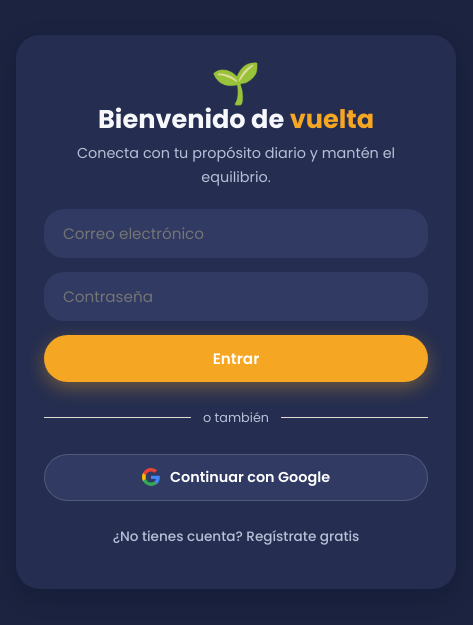
it: LoginForm › muestra el error cuando signIn rechaza la promesa
Type "persona@example.com" into the field with placeholder "Correo electrónico" at (236,234), box [44, 209, 428, 258]
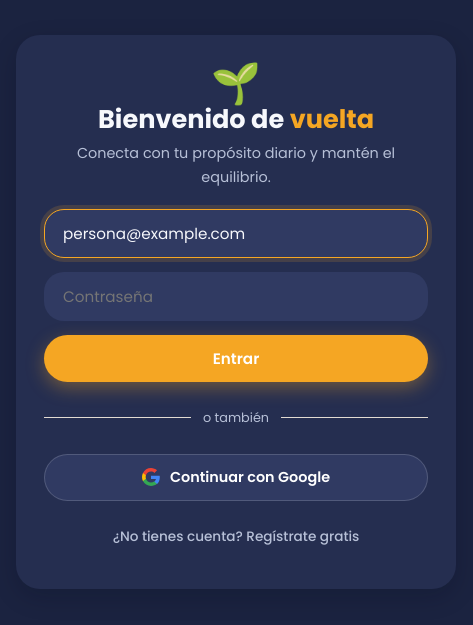
Type "incorrecta" into the password field with placeholder "Contraseña" at (236,296), box [44, 272, 428, 321]
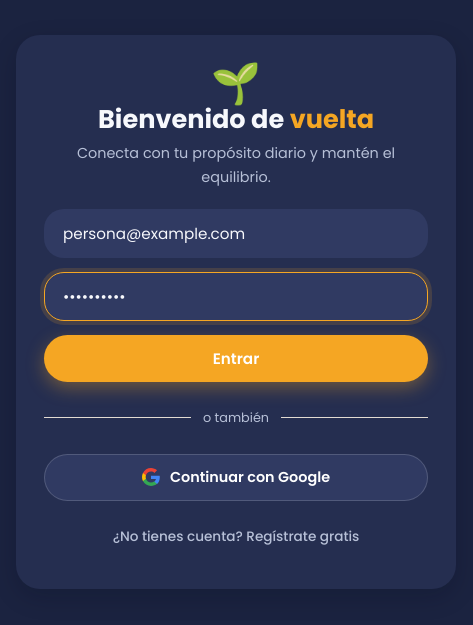
Click the button "Entrar" at (236,358), box [44, 335, 428, 382]
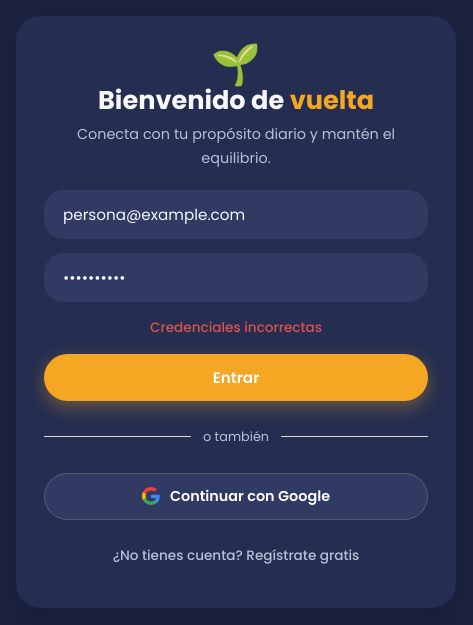
Now the text "Credenciales incorrectas" is shown, box [150, 318, 322, 337]
